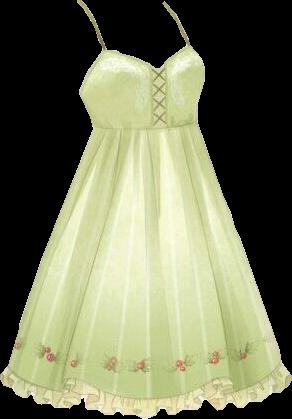Bodice: (77, 0, 204, 129)
Hemline: (7, 361, 284, 408)
Neckline: (78, 0, 188, 71)
Skirt: (0, 122, 291, 418)
Waistline: (92, 118, 198, 133)
